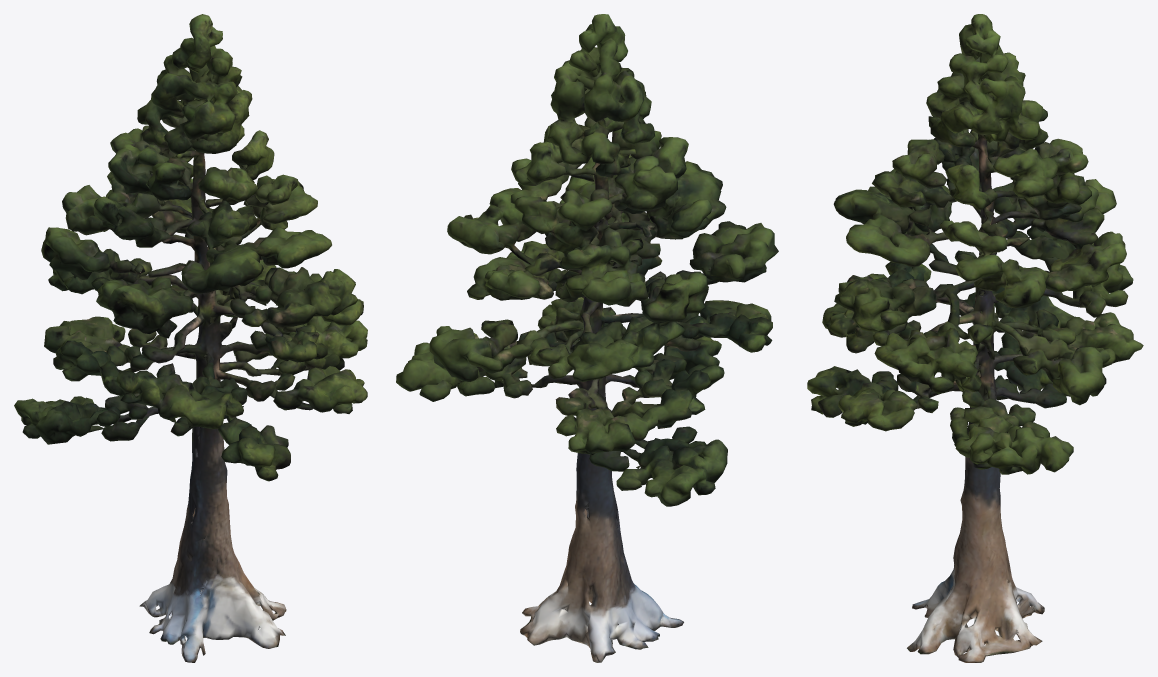
The model's file is AI_MatureSpruceTree1.fbx.
3 views of the same model, side by side, from view 1: azimuth 30°, elevation 25°; view 2: azimuth 150°, elevation 25°; view 3: azimuth 270°, elevation 25° (orthographic).
Parts seen in each view (by area): view 1: Mesh_0; view 2: Mesh_0; view 3: Mesh_0.
Part boxes in pixels (x1=…): Mesh_0: x1=14, y1=14, x2=367, y2=662; Mesh_0: x1=396, y1=14, x2=778, y2=662; Mesh_0: x1=807, y1=14, x2=1143, y2=662.
Bounding box in the file's own units: 109 × 202 × 99.9.
Materials: 1 (1 with a texture image).
